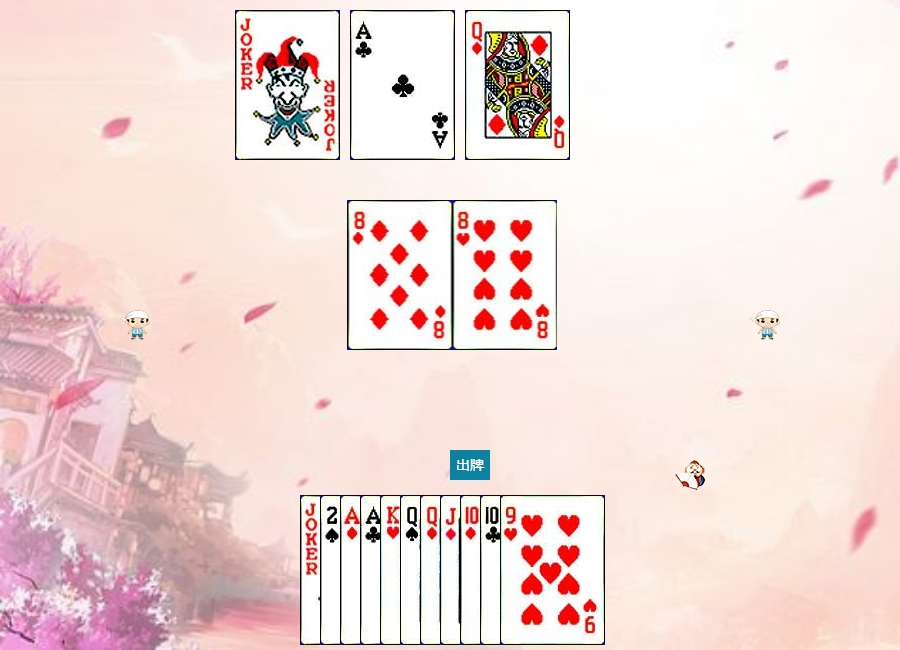10~1: (460, 495, 565, 645)
10~2: (480, 495, 585, 645)
11~1: (440, 495, 545, 645)
12~1: (465, 10, 570, 160), (420, 495, 525, 645)
12~4: (400, 495, 505, 645)
13~3: (380, 495, 485, 645)
14~1: (340, 495, 445, 645)
14~2: (350, 10, 455, 160), (360, 495, 465, 645)
15~4: (320, 495, 425, 645)
18~4: (235, 10, 340, 160), (300, 495, 405, 645)
8~1: (348, 200, 453, 350)
8~3: (453, 200, 558, 350)
9~3: (500, 495, 605, 645)
